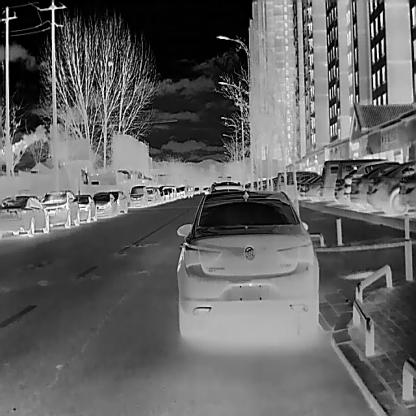car: (176, 188, 318, 340), (350, 160, 415, 210), (366, 164, 415, 218), (0, 194, 51, 236), (42, 188, 81, 228), (320, 156, 338, 202), (208, 180, 242, 202), (91, 189, 116, 217), (76, 194, 100, 221), (129, 184, 148, 209), (113, 191, 128, 213)
